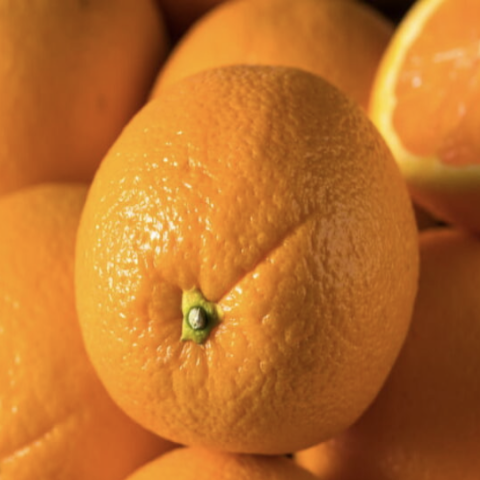orange: (33, 36, 435, 475)
